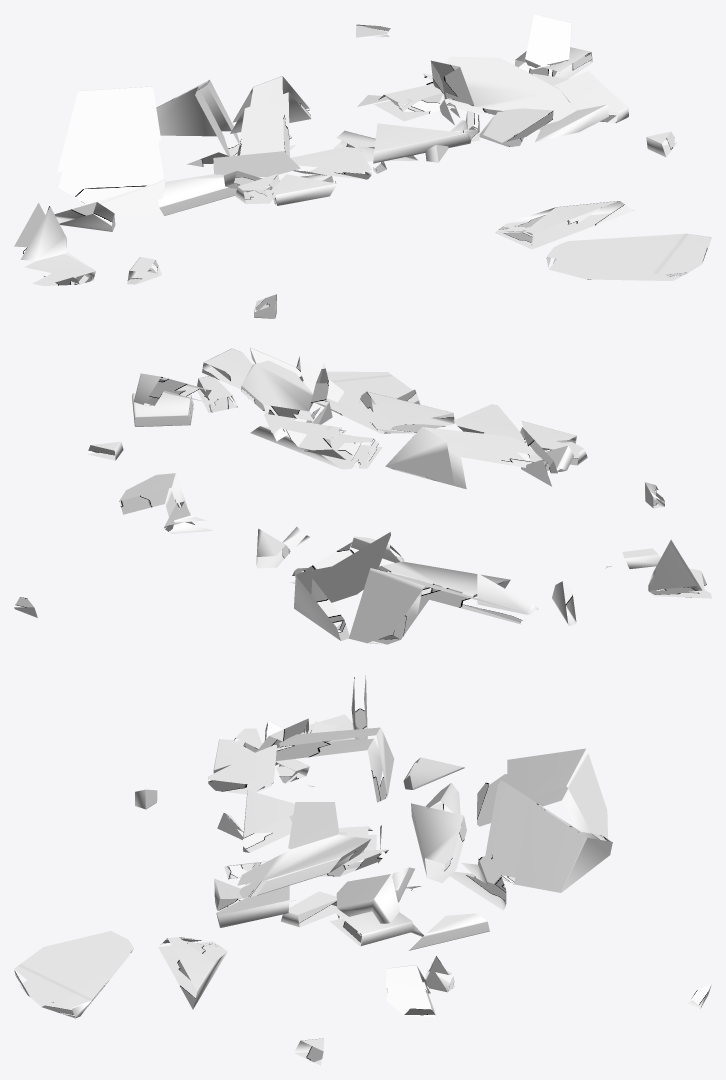
The model's file is VidrieraRota.fbx.
3 views of the same model, one above another, from view 1: azimuth 30°, elevation 25°; view 2: azimuth 150°, elevation 25°; view 3: azimuth 270°, elevation 25° (orthographic). The views are drawn at different scales.
Parts seen in each view (by area): view 1: Cube_cell.005_cell.001; view 2: Cube_cell.005_cell.001; view 3: Cube_cell.005_cell.001.
Part boxes in pixels (x1,y1,x2,y2): Cube_cell.005_cell.001: (14,14,711,318); Cube_cell.005_cell.001: (14,347,711,644); Cube_cell.005_cell.001: (14,675,711,1065).
Size of the model in its own units: 869 by 182 by 783.
Materials: 1 (1 with a texture image).
